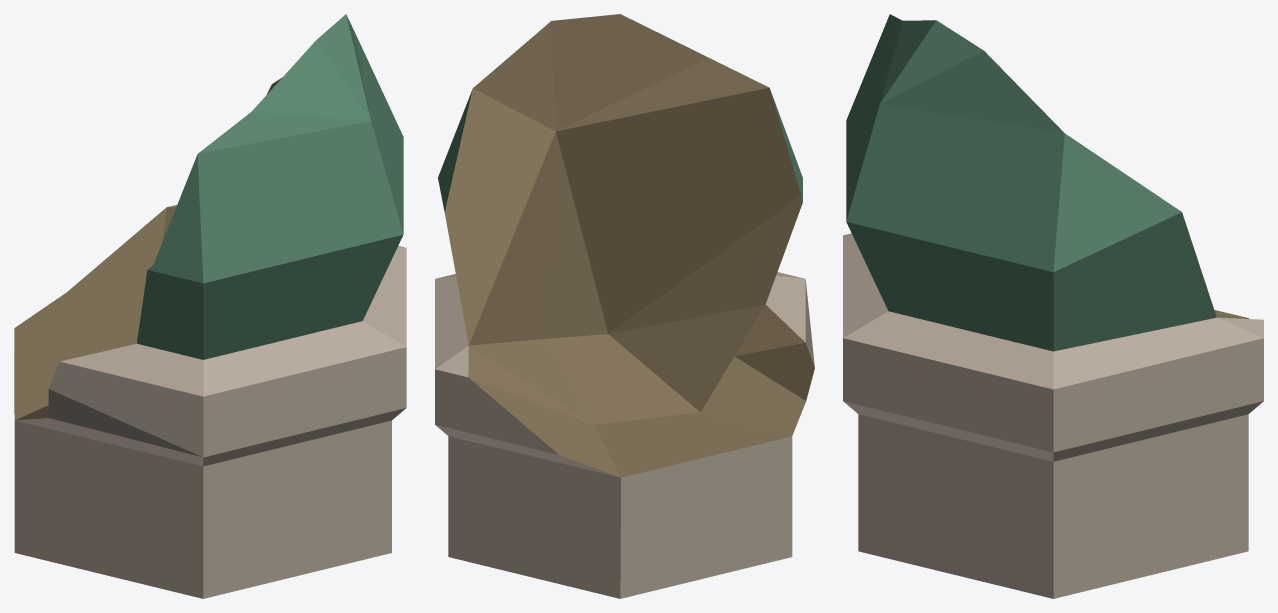
File: SM_Bld_Roof_Cap_Destroyed_04.glb
3 views of the same model, side by side, from view 1: azimuth 30°, elevation 25°; view 2: azimuth 150°, elevation 25°; view 3: azimuth 270°, elevation 25° (orthographic). The views are drawn at different scales.
Visible parts, largest first — view 1: SM_Bld_Roof_Cap_Destroyed_04; view 2: SM_Bld_Roof_Cap_Destroyed_04; view 3: SM_Bld_Roof_Cap_Destroyed_04.
Part boxes in pixels (box(x1,y1,x2,y2)): SM_Bld_Roof_Cap_Destroyed_04: box(14, 14, 406, 598); SM_Bld_Roof_Cap_Destroyed_04: box(435, 14, 814, 598); SM_Bld_Roof_Cap_Destroyed_04: box(843, 14, 1263, 598).
Bounding box in the file's own units: 0.7496 × 0.9039 × 0.6736.
1 material, 1 textured.
